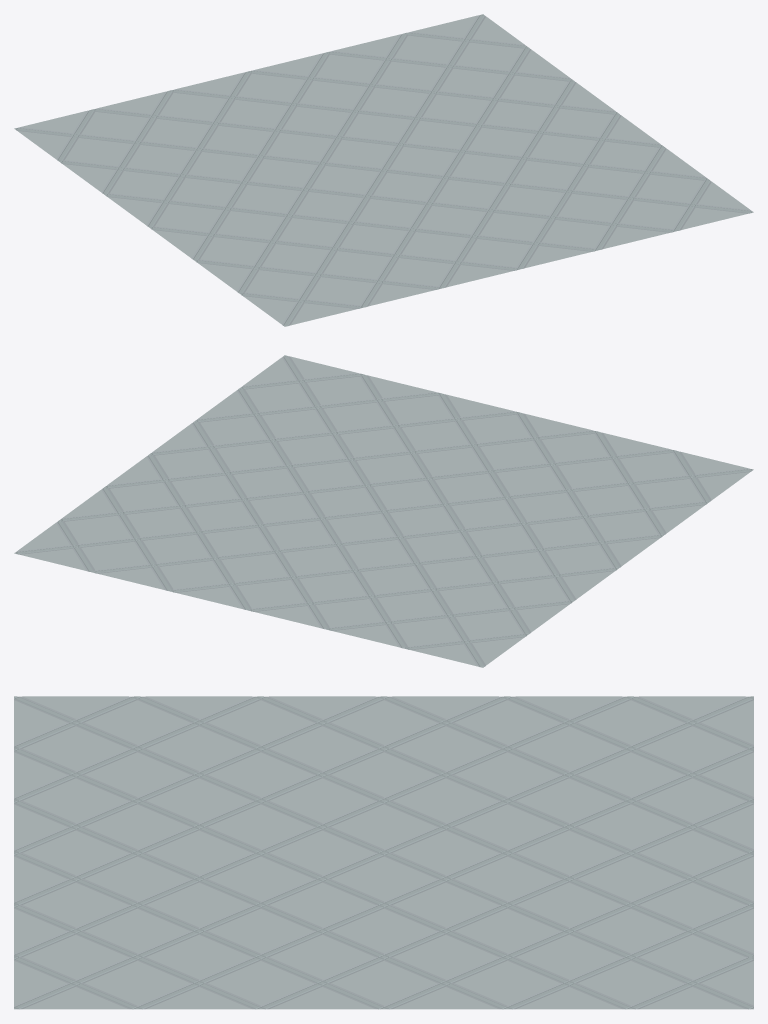
File: Floor Assembled B.fbx
The picture shows the model from 3 angles, top to bottom: view 1: azimuth 30°, elevation 25°; view 2: azimuth 150°, elevation 25°; view 3: azimuth 270°, elevation 25°; orthographic projection. The views are drawn at different scales.
Parts seen in each view (by area): view 1: Floor Assembled A.001; view 2: Floor Assembled A.001; view 3: Floor Assembled A.001.
Part boxes in pixels (box(x1,y1,x2,y2)): Floor Assembled A.001: box(14, 14, 753, 326); Floor Assembled A.001: box(14, 355, 753, 667); Floor Assembled A.001: box(14, 696, 753, 1009).
Size of the model in its own units: 9.29 by 0.00397 by 9.29.
